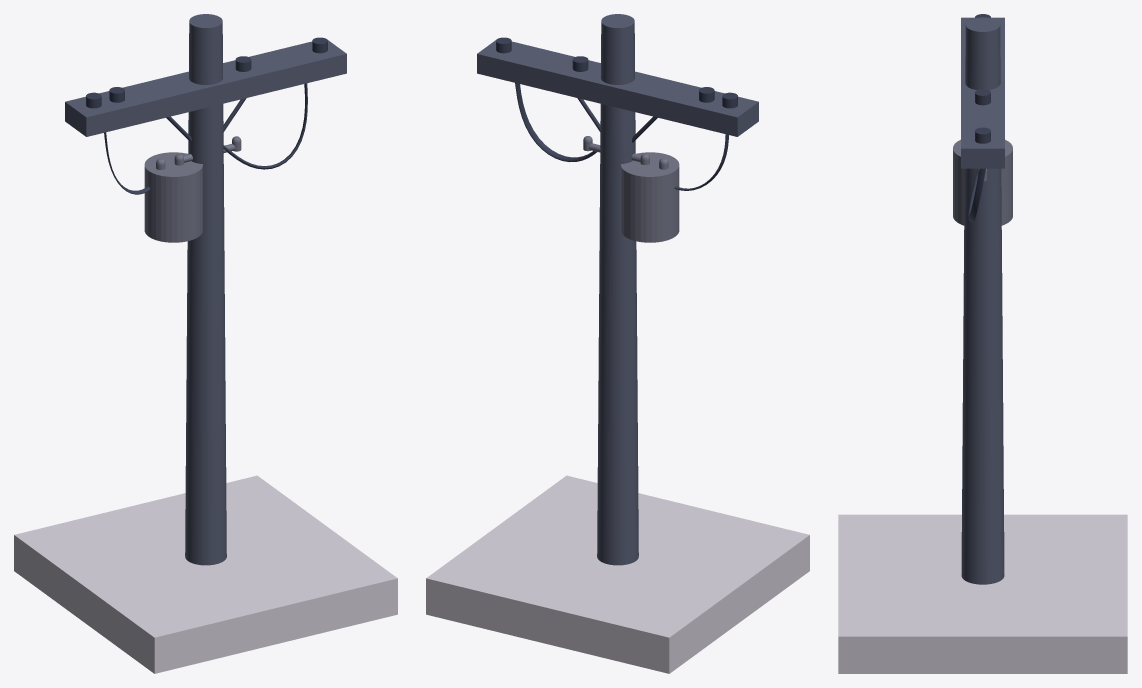
The model's file is concrete_electricity_pole.fbx.
3 renders of one model, left to right at view 1: azimuth 30°, elevation 25°; view 2: azimuth 150°, elevation 25°; view 3: azimuth 270°, elevation 25°, orthographic. The views are drawn at different scales.
Visible parts, largest first — view 1: Cube.037, pole base, pole thing, wire; view 2: Cube.037, pole base, pole thing, wire; view 3: Cube.037, pole base, pole thing, wire.
Part boxes in pixels (x1,y1,x2,y2): Cube.037: [14, 475, 397, 673]; pole base: [65, 14, 346, 565]; pole thing: [144, 136, 241, 242]; wire: [104, 83, 307, 194]; Cube.037: [426, 475, 809, 673]; pole base: [477, 14, 758, 565]; pole thing: [583, 136, 679, 242]; wire: [515, 83, 728, 190]; Cube.037: [838, 514, 1127, 673]; pole base: [961, 14, 1004, 584]; pole thing: [953, 139, 1012, 225]; wire: [968, 168, 985, 221].
Bounding box in the file's own units: 183 × 383 × 171.
